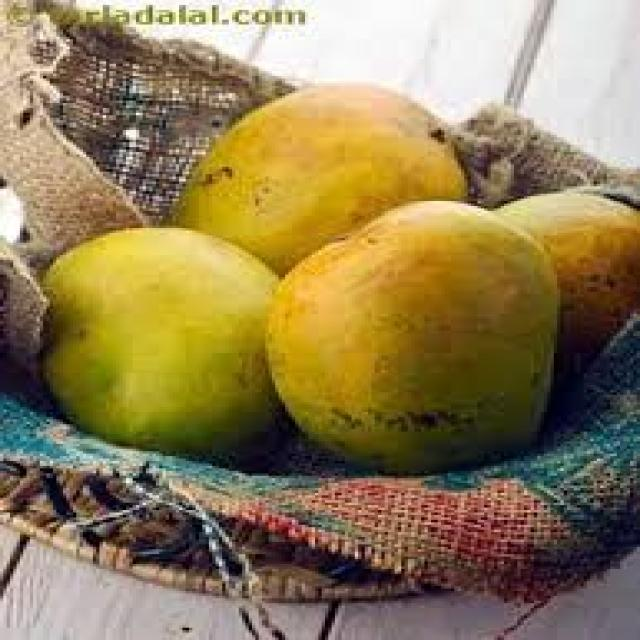mango: (265, 206, 560, 478)
